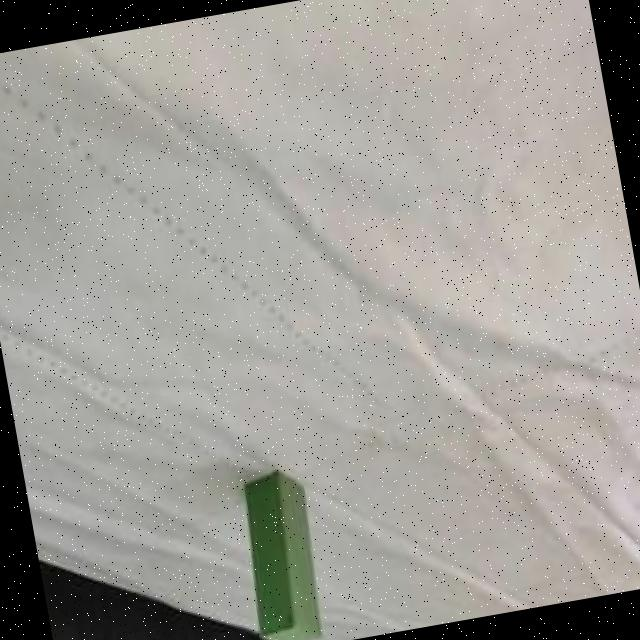greenbox: (226, 463, 331, 640)
